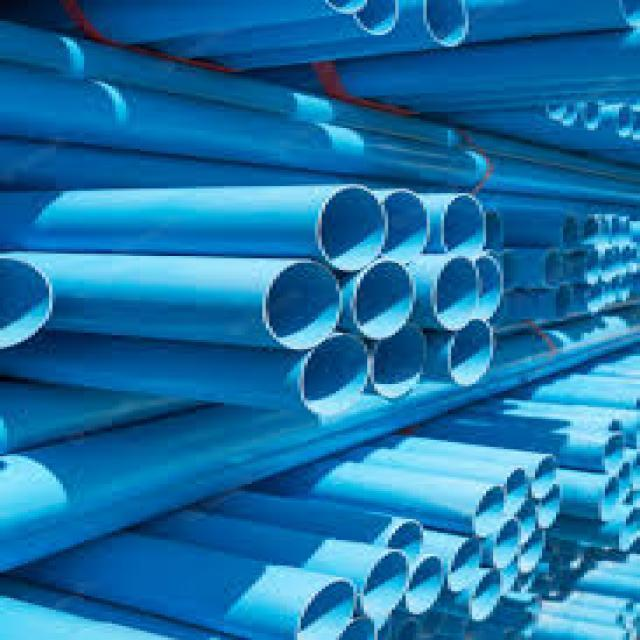pipe: (266, 261, 341, 346), (319, 187, 383, 270), (299, 334, 367, 412), (0, 258, 51, 350), (355, 259, 412, 336), (372, 322, 424, 398), (299, 581, 355, 640), (380, 191, 427, 260), (363, 551, 409, 616), (436, 256, 476, 327), (450, 318, 491, 383), (443, 195, 484, 255), (406, 557, 444, 613), (473, 253, 504, 318), (427, 0, 469, 47), (387, 520, 422, 567), (473, 486, 505, 535), (449, 541, 478, 594), (472, 571, 500, 620), (493, 520, 521, 566), (519, 531, 547, 574), (531, 456, 558, 498), (505, 468, 526, 515), (536, 488, 561, 527), (600, 476, 621, 518), (603, 435, 626, 473), (517, 498, 536, 542), (541, 250, 562, 288), (552, 284, 572, 319), (563, 215, 582, 248), (585, 247, 599, 284), (587, 284, 601, 309)
